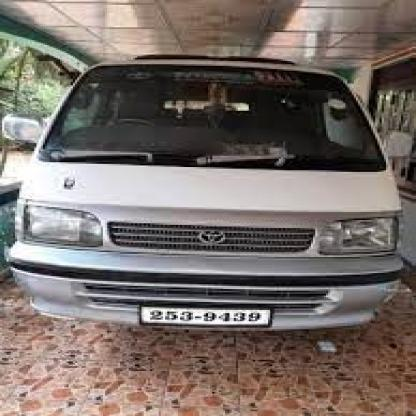number plate: (141, 306, 272, 326)
van front: (7, 49, 406, 341)
